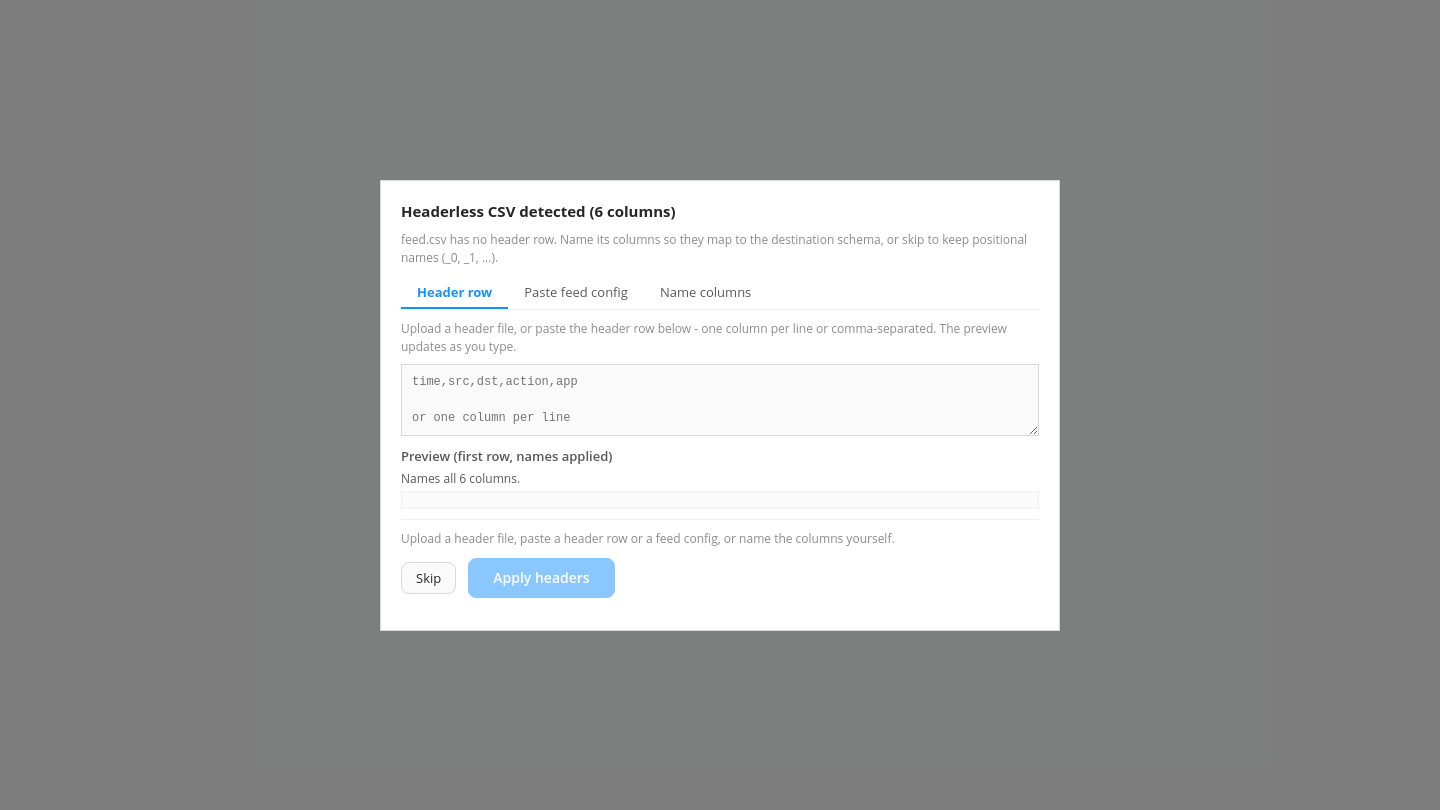
Test: CsvHeaderDialog - the mismatch warning survives alongside coverage › states only the clause this mismatch's DIRECTION makes true
Step 1. Type "a,b,c,d,e,f,g,h" into the text box with class "sample-paste" → (720, 400), box [401,364,1039,436]
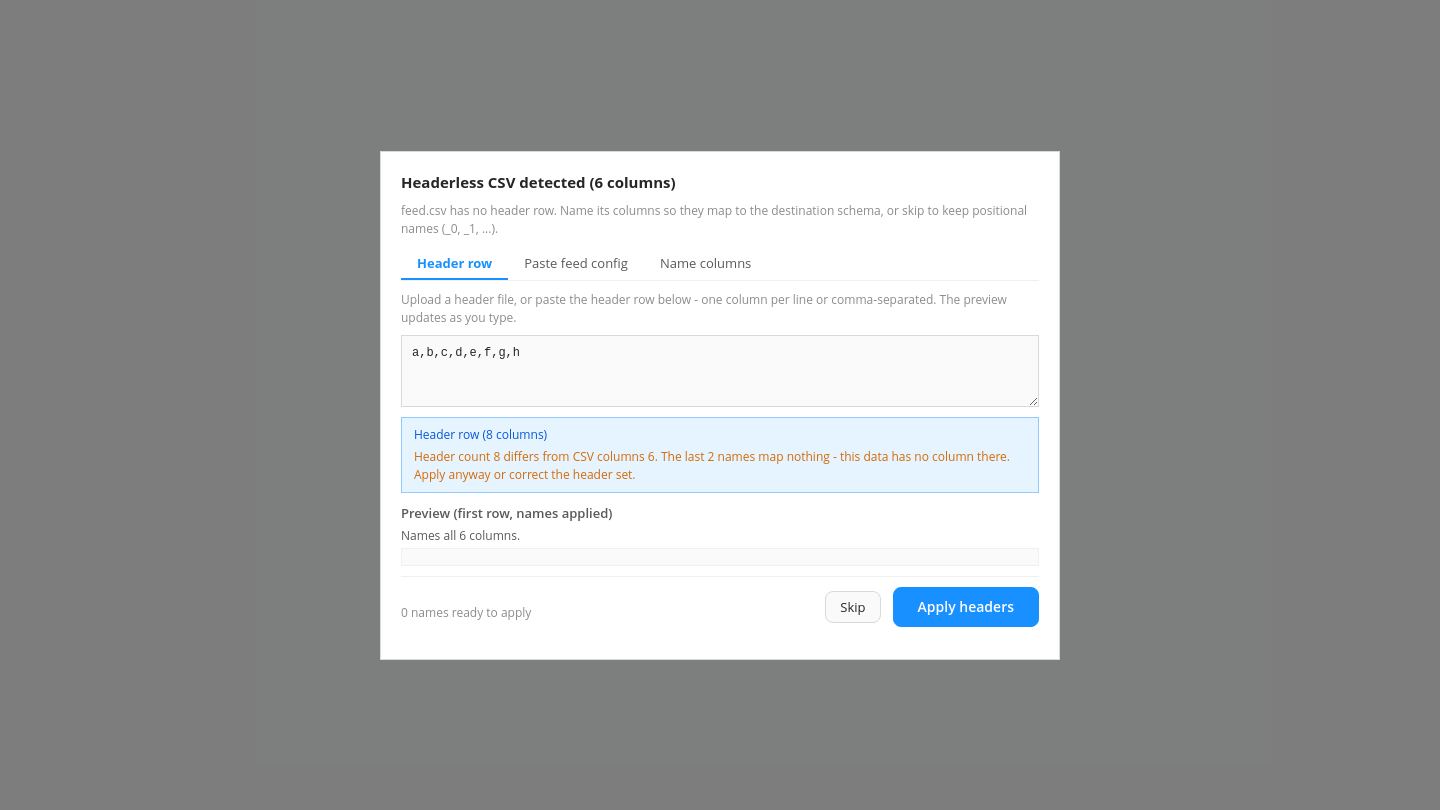
Result: the text with class "csv-dialog-mismatch" shows "The last 2 names map nothing" at [414,448,1010,482]
